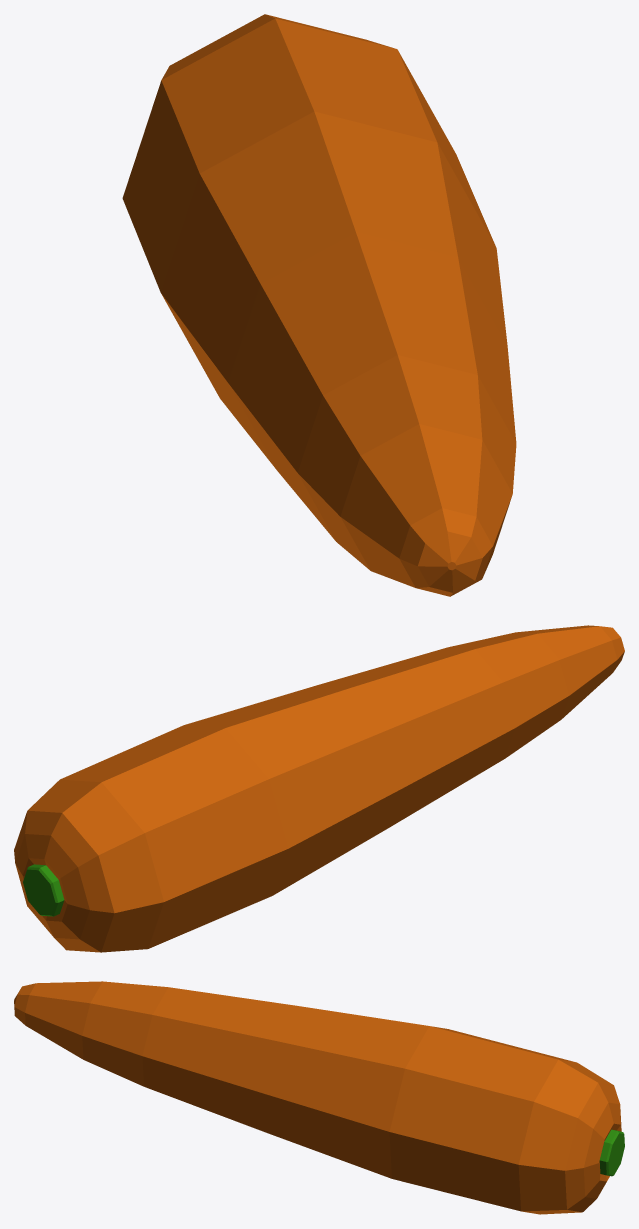
The model's file is Ma_Carrot.fbx.
The picture shows the model from 3 angles, top to bottom: view 1: azimuth 30°, elevation 25°; view 2: azimuth 150°, elevation 25°; view 3: azimuth 270°, elevation 25°; orthographic projection. The views are drawn at different scales.
Parts seen in each view (by area): view 1: Ma_Carrot; view 2: Ma_Carrot; view 3: Ma_Carrot.
Boxes of the visible parts, x1,y1,x2,y2 form: Ma_Carrot: [122, 14, 516, 596]; Ma_Carrot: [14, 625, 624, 952]; Ma_Carrot: [14, 981, 624, 1214].
Bounding box in the file's own units: 85.15 × 167 × 49.46.
